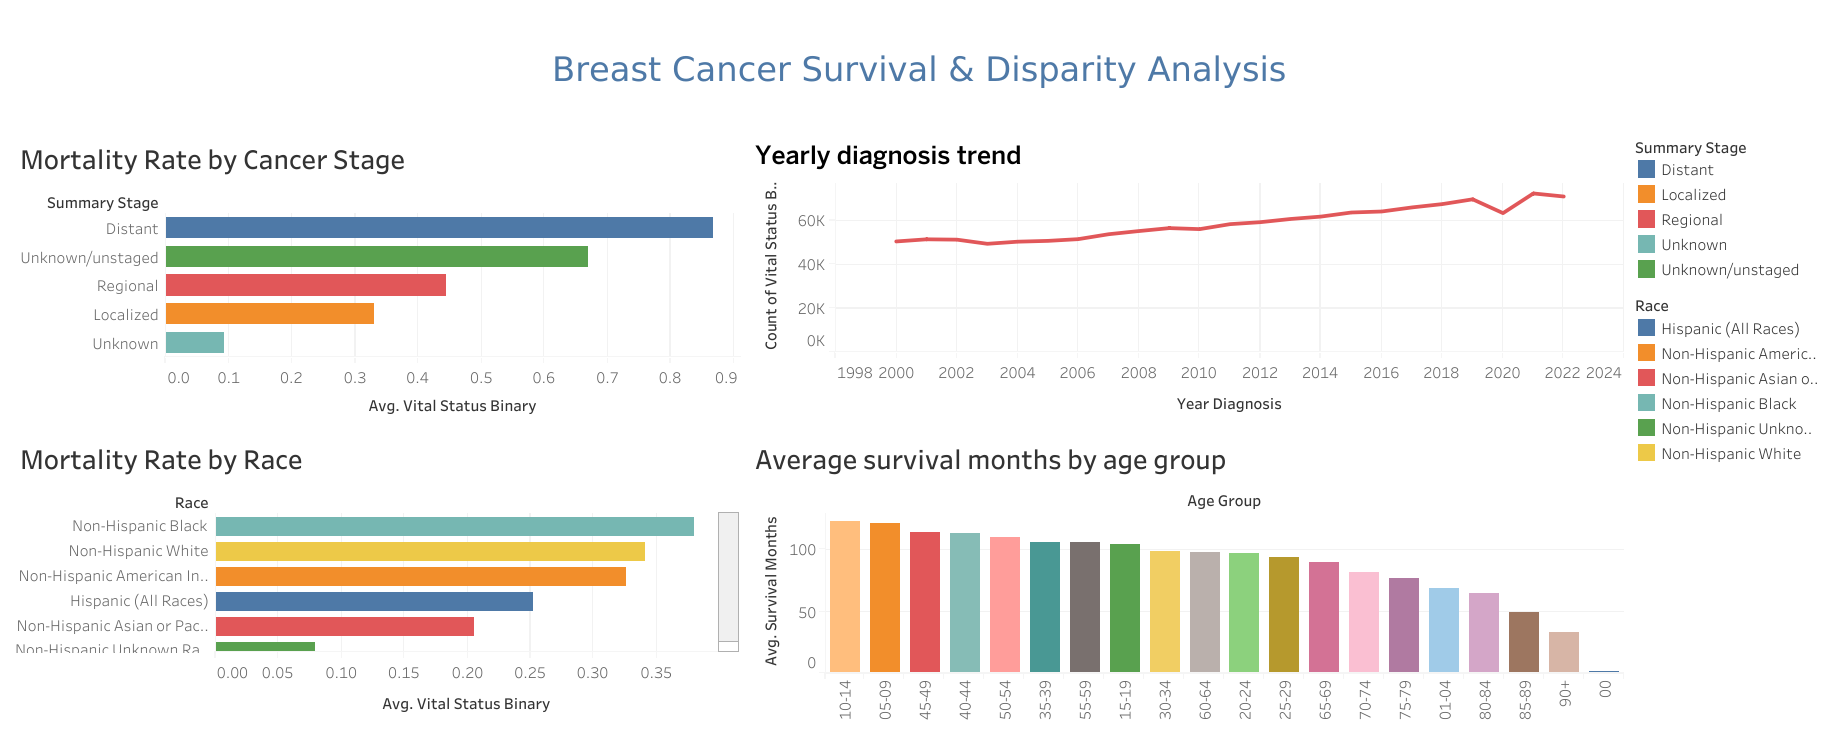

What the dashboard file says about the page in this screenshot:
{"tool":"tableau","page":{"name":"Dashboard 1","canvas":[1000,1000],"units":"permille","ordinal":0},"visuals":[{"type":"title","box":[4.8,10,990.3,117.4]},{"type":"worksheet","title":"Sheet 6","mark":"Automatic","rows":["summary_stage"],"cols":["vital_status_binary"],"box":[4.8,127.4,405.6,431.9]},{"type":"worksheet","title":"Sheet 4","mark":"Automatic","rows":["vital_status_binary"],"cols":["year_diagnosis"],"box":[410.4,127.4,488.2,431.9]},{"type":"legend","title":"Sheet 6","param":"[federated.0kkm6a91h0irix1fc1uxd1e24fdp].[none:summary_stage:nk]","box":[898.6,127.4,96.6,168.5]},{"type":"legend","title":"Sheet 5","param":"[federated.0kkm6a91h0irix1fc1uxd1e24fdp].[none:race:nk]","box":[898.6,295.9,96.6,194.8]},{"type":"worksheet","title":"Sheet 5","mark":"Automatic","rows":["race"],"cols":["vital_status_binary"],"box":[4.8,559.3,405.6,430.7]},{"type":"worksheet","title":"Sheet 3","mark":"Automatic","rows":["survival_months"],"cols":["age_group"],"box":[410.4,559.3,488.2,430.7]}]}

Visuals, with their boxes on the dashboard's canvas, which has no fixed pixel size, in thousandths of its width and height (x1, y1, x2, y2). These are canvas units, not pixel positions in the 1838x736 screenshot, which may show the page scaled, cropped or inside an application window:
title: rect(5, 10, 995, 127)
"Sheet 6" worksheet: rect(5, 127, 410, 559)
"Sheet 4" worksheet: rect(410, 127, 899, 559)
"Sheet 6" legend: rect(899, 127, 995, 296)
"Sheet 5" legend: rect(899, 296, 995, 491)
"Sheet 5" worksheet: rect(5, 559, 410, 990)
"Sheet 3" worksheet: rect(410, 559, 899, 990)
